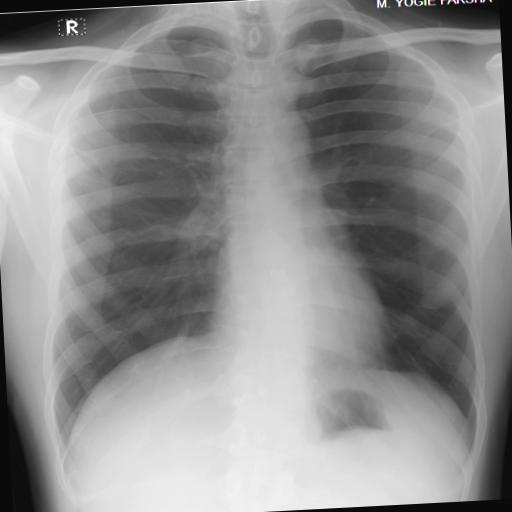normal: (12, 3, 490, 478)
